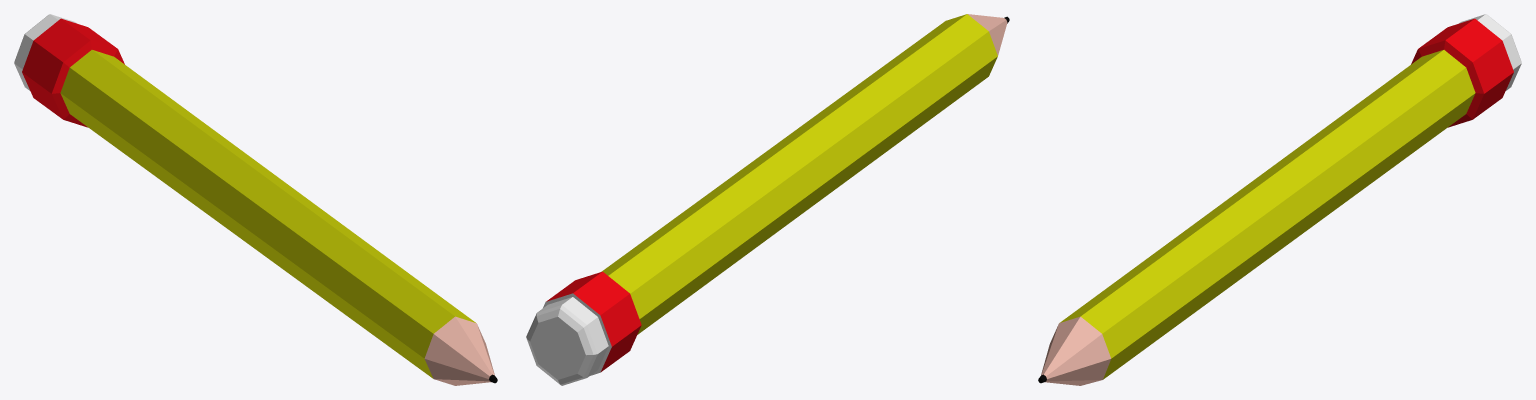
Rendered from lapis2.fbx.
3 views of the same model, side by side, from view 1: azimuth 30°, elevation 25°; view 2: azimuth 150°, elevation 25°; view 3: azimuth 330°, elevation 25° (orthographic).
Parts seen in each view (by area): view 1: Cube; view 2: Cube; view 3: Cube.
Boxes of the visible parts, x1,y1,x2,y2 form: Cube: (14, 14, 497, 385); Cube: (526, 14, 1009, 385); Cube: (1038, 14, 1521, 385).
Size of the model in its own units: 50.53 by 54.58 by 504.
